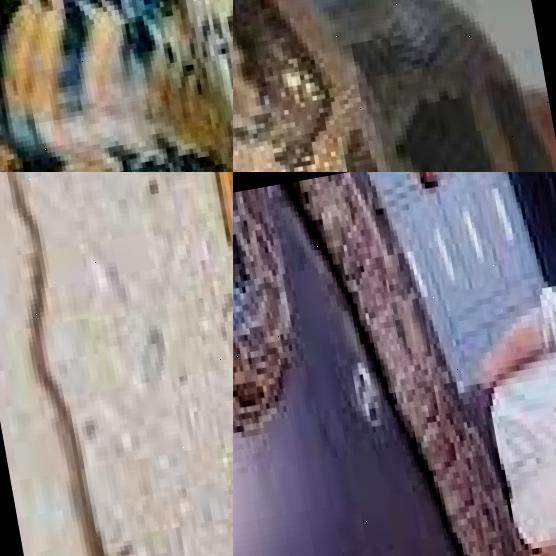snake: (233, 172, 556, 556), (0, 172, 233, 556), (233, 0, 556, 172), (0, 0, 233, 172)
